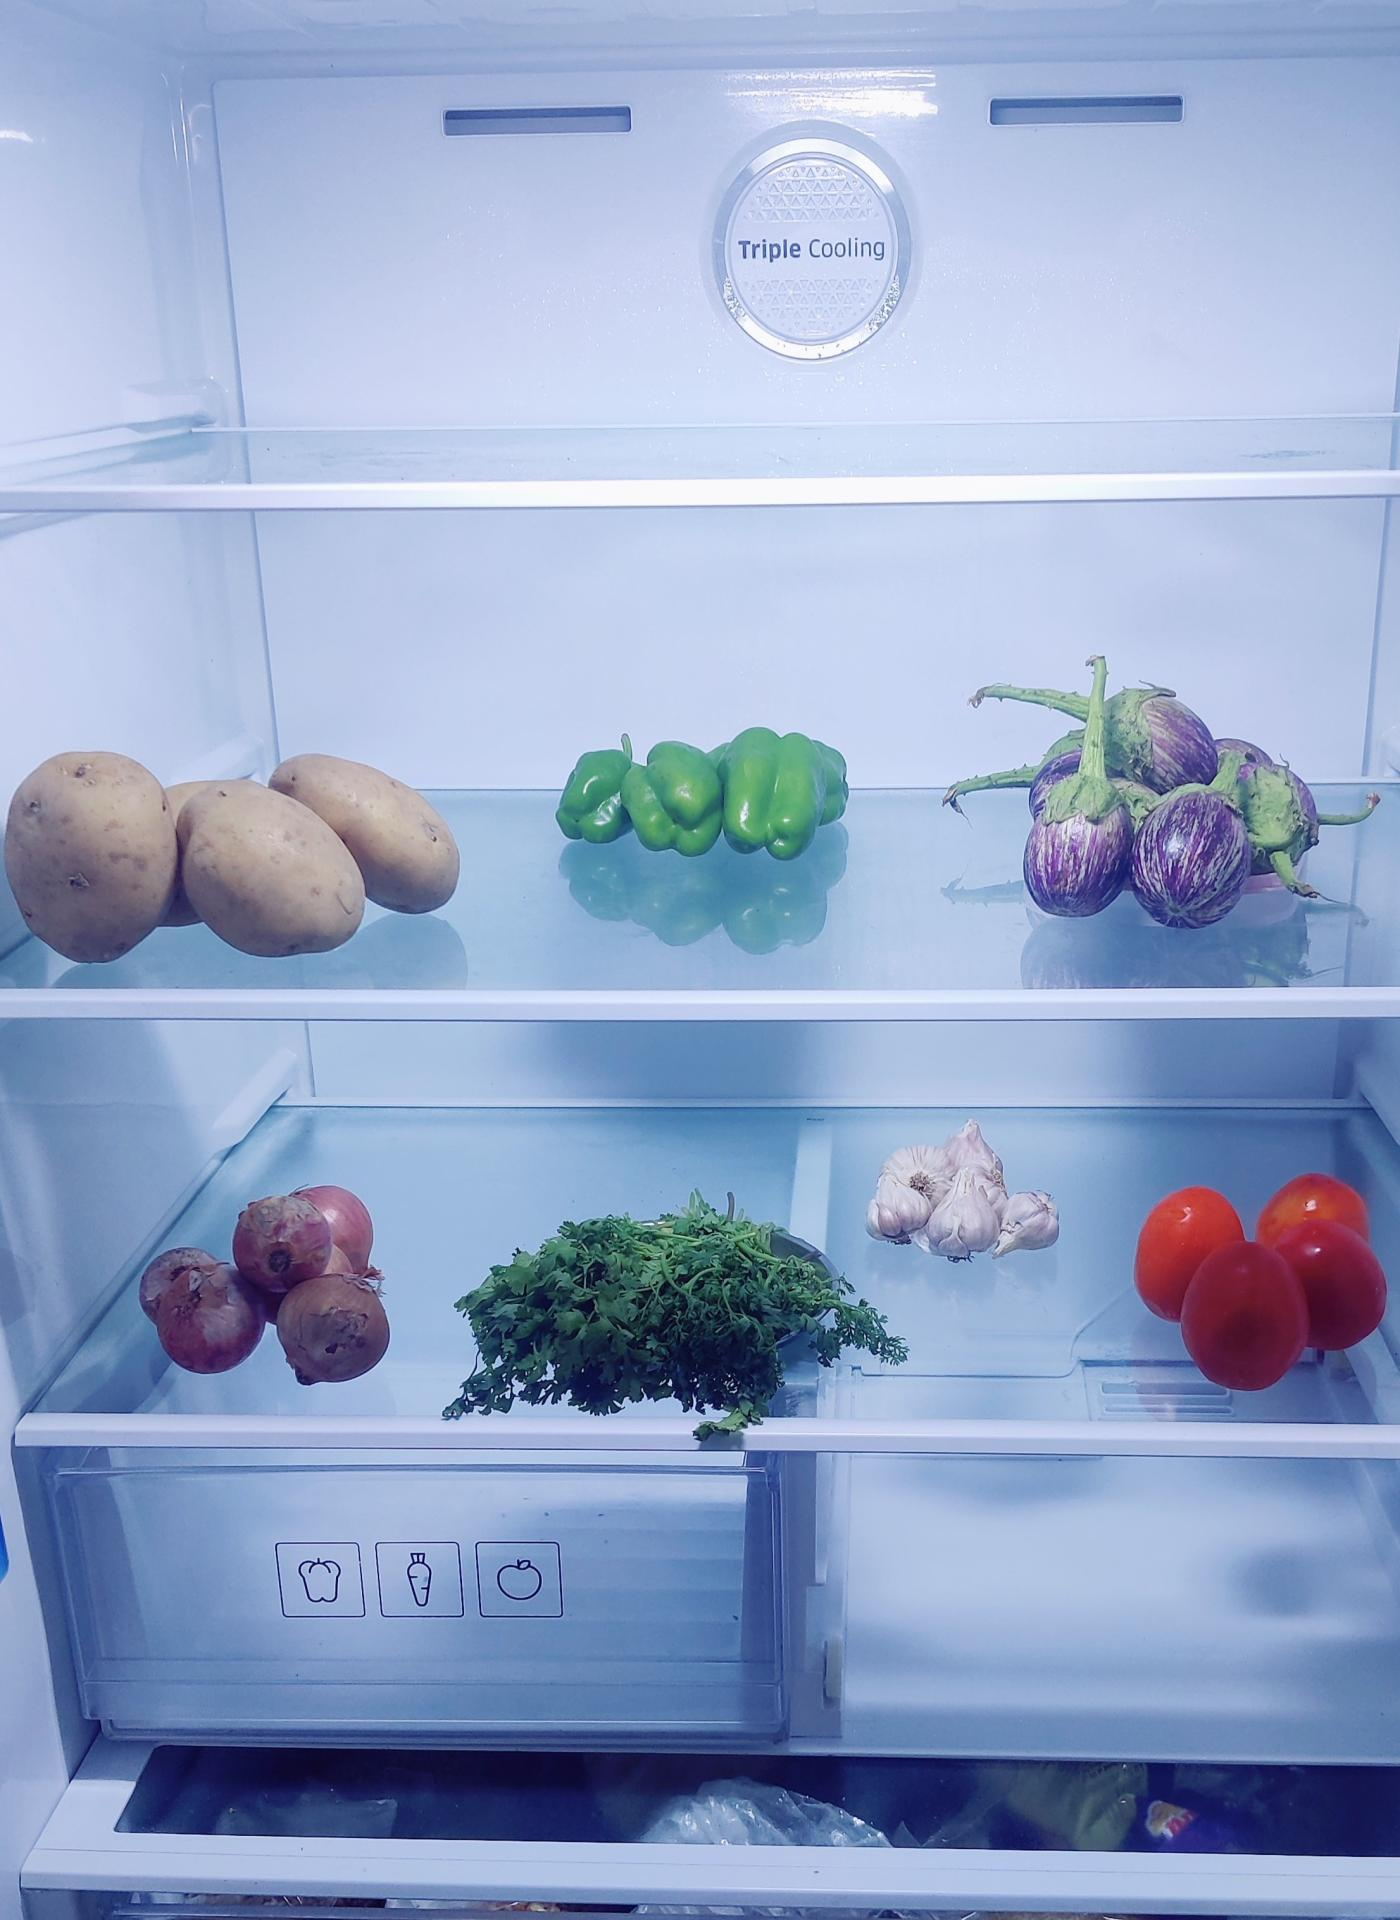brinjal: (988, 659, 1299, 933)
capsicum: (558, 729, 853, 865)
coriander: (452, 1197, 881, 1404)
garlic: (869, 1109, 1056, 1279)
onion: (137, 1181, 394, 1385)
potato: (3, 738, 456, 963)
tomato: (1138, 1173, 1391, 1391)
